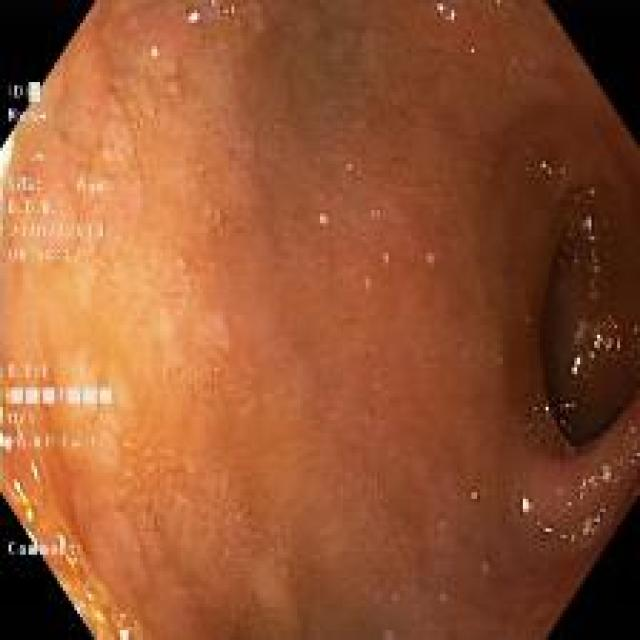ulcerative-colitis-grade-1: (1, 3, 640, 638)
